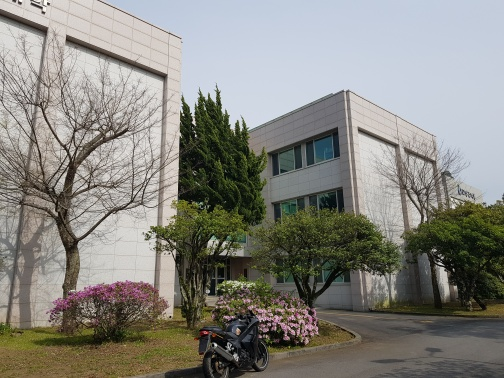College of Nursing: (15, 10, 450, 304)
